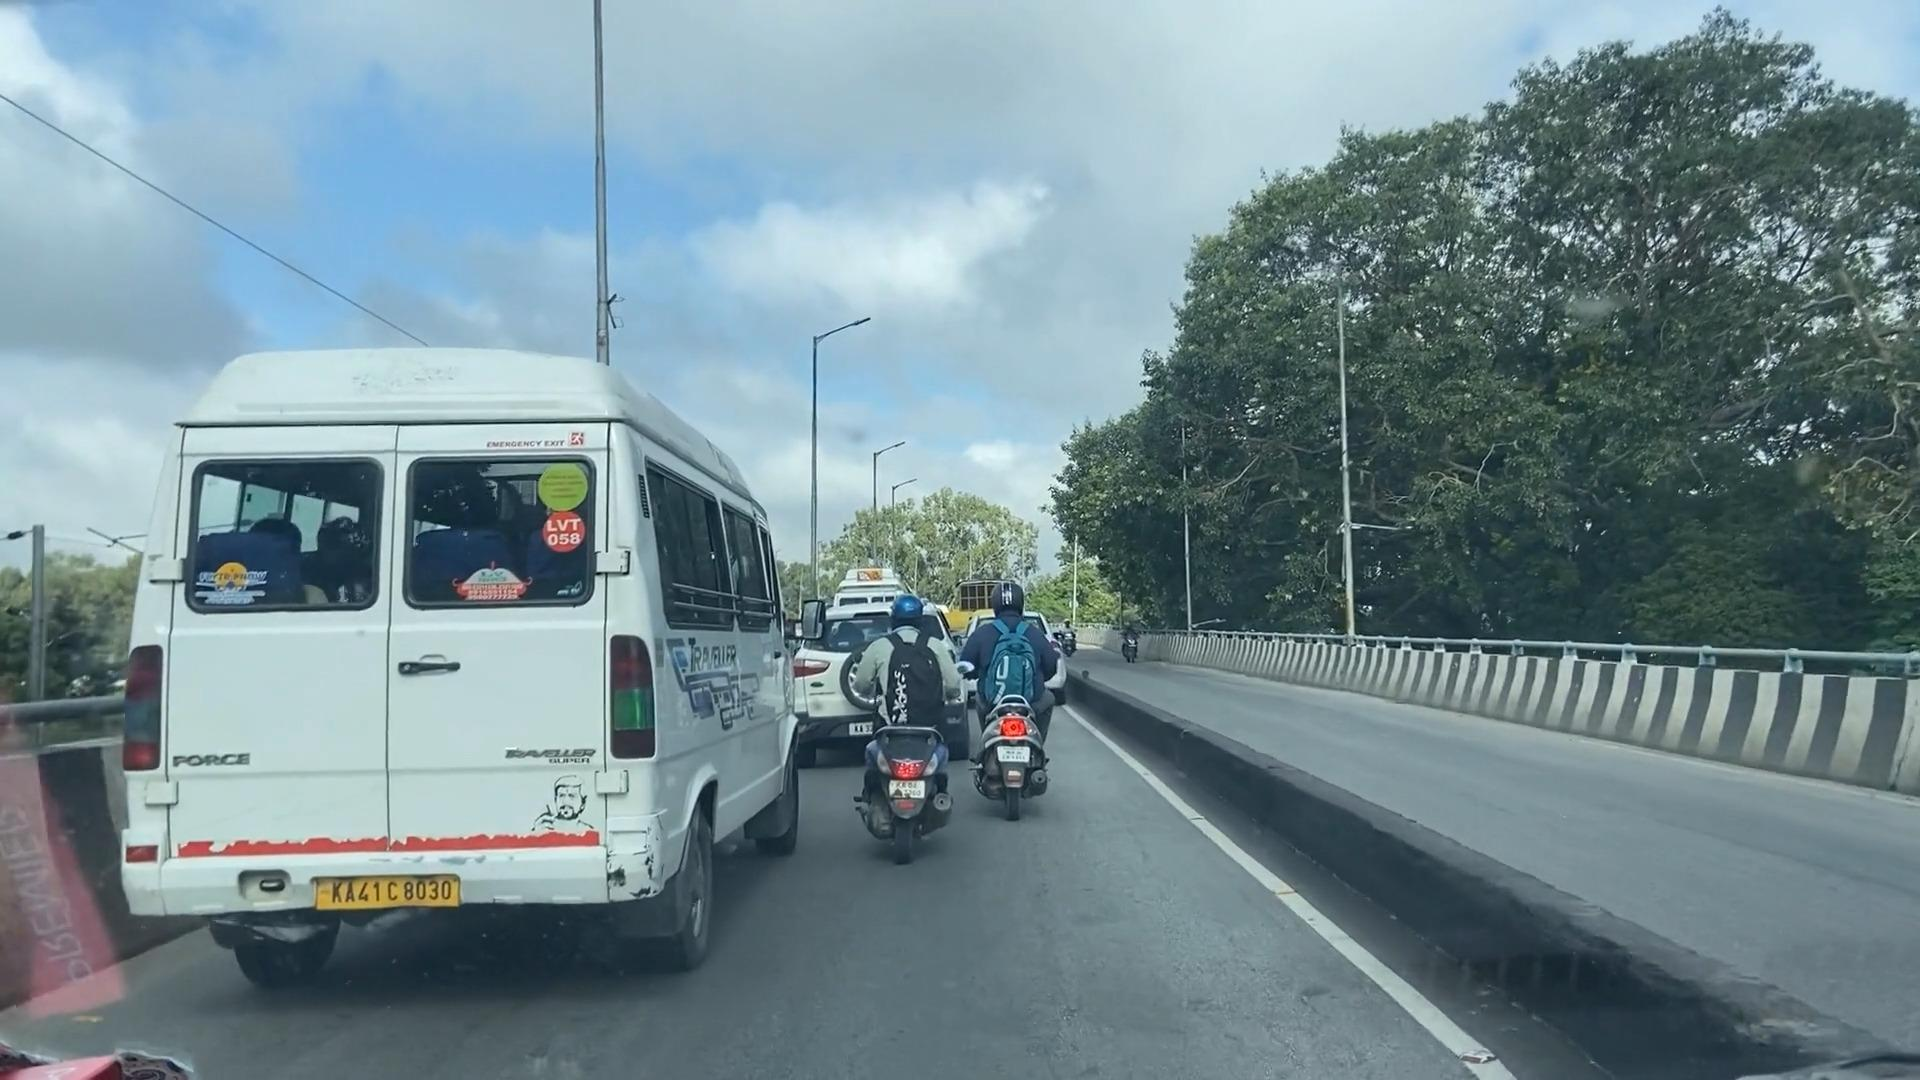HMV: (119, 389, 787, 955)
LMV: (874, 576, 964, 876), (981, 591, 1071, 837)
